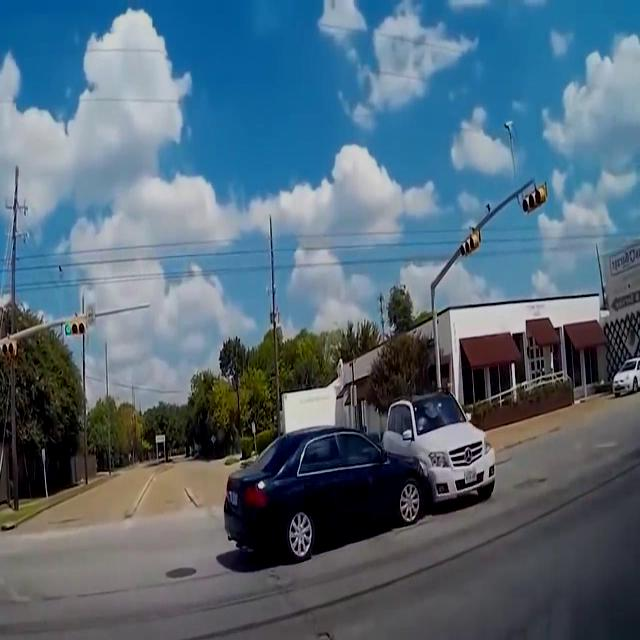accident: (220, 386, 498, 564)
